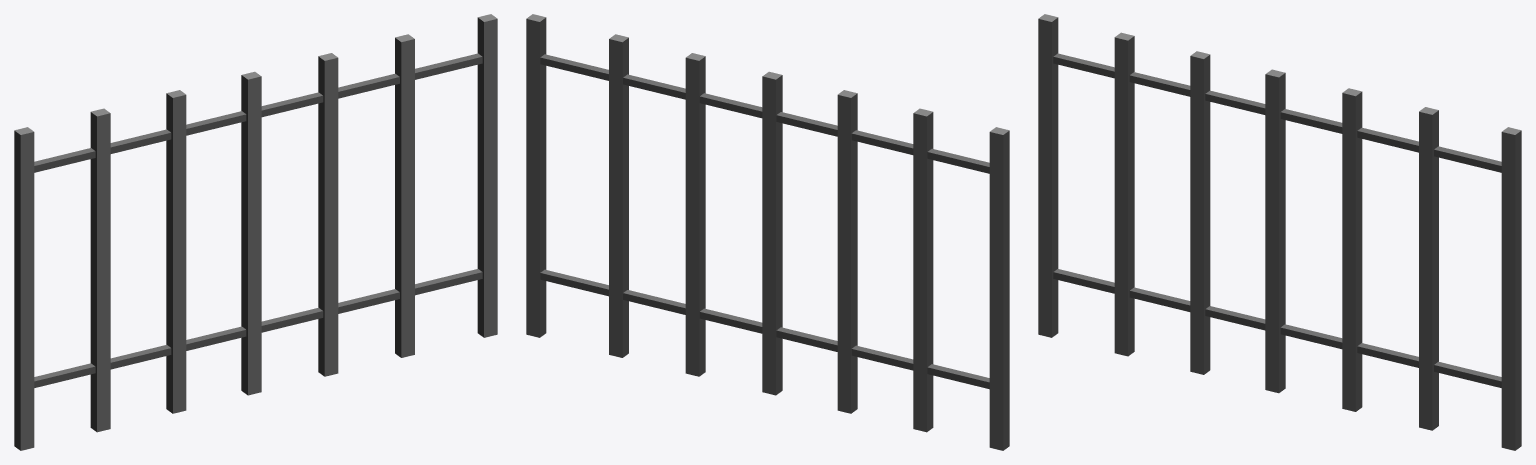
Rendered from fence_long_mesh.fbx.
3 renders of one model, left to right at view 1: azimuth 30°, elevation 25°; view 2: azimuth 150°, elevation 25°; view 3: azimuth 330°, elevation 25°, orthographic.
Visible parts, largest first — view 1: fence_long_mesh; view 2: fence_long_mesh; view 3: fence_long_mesh.
Boxes of the visible parts, box(x1,y1,x2,y2) form: fence_long_mesh: box(14, 14, 497, 450); fence_long_mesh: box(526, 14, 1009, 450); fence_long_mesh: box(1038, 14, 1521, 450).
Size of the model in its own units: 5 by 3.16 by 0.1183.
